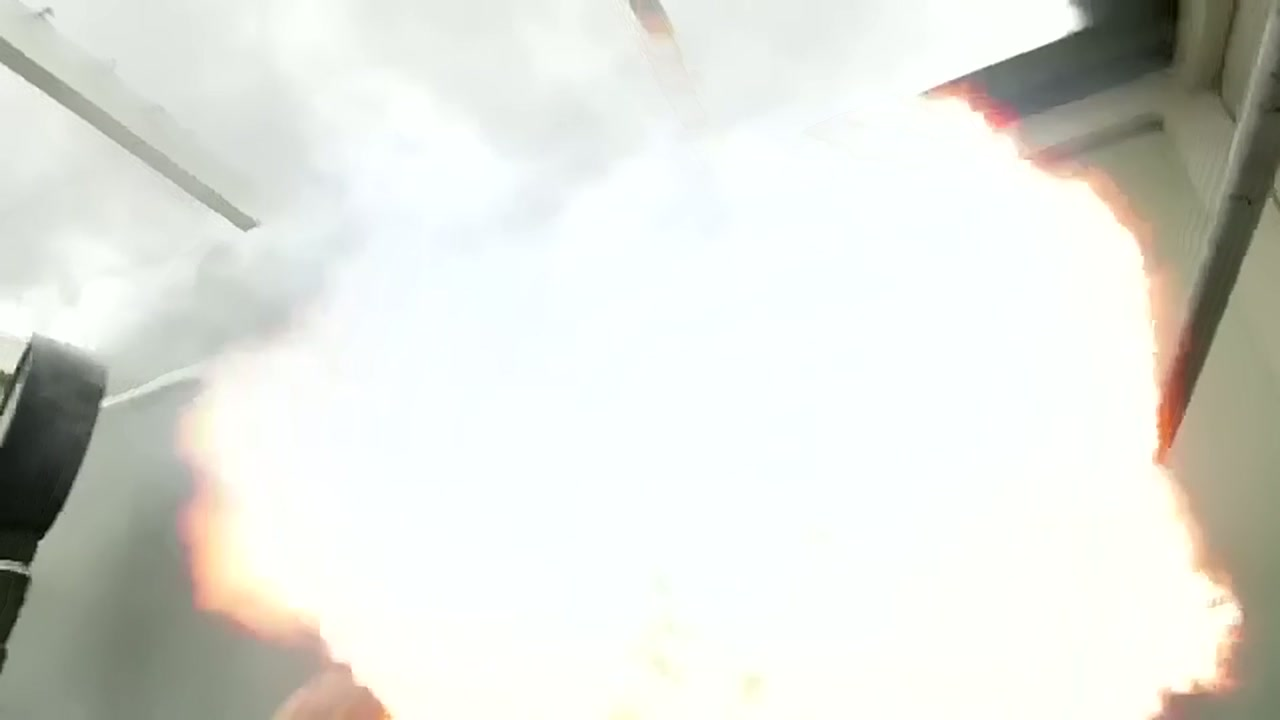smoke: (192, 72, 1088, 360)
